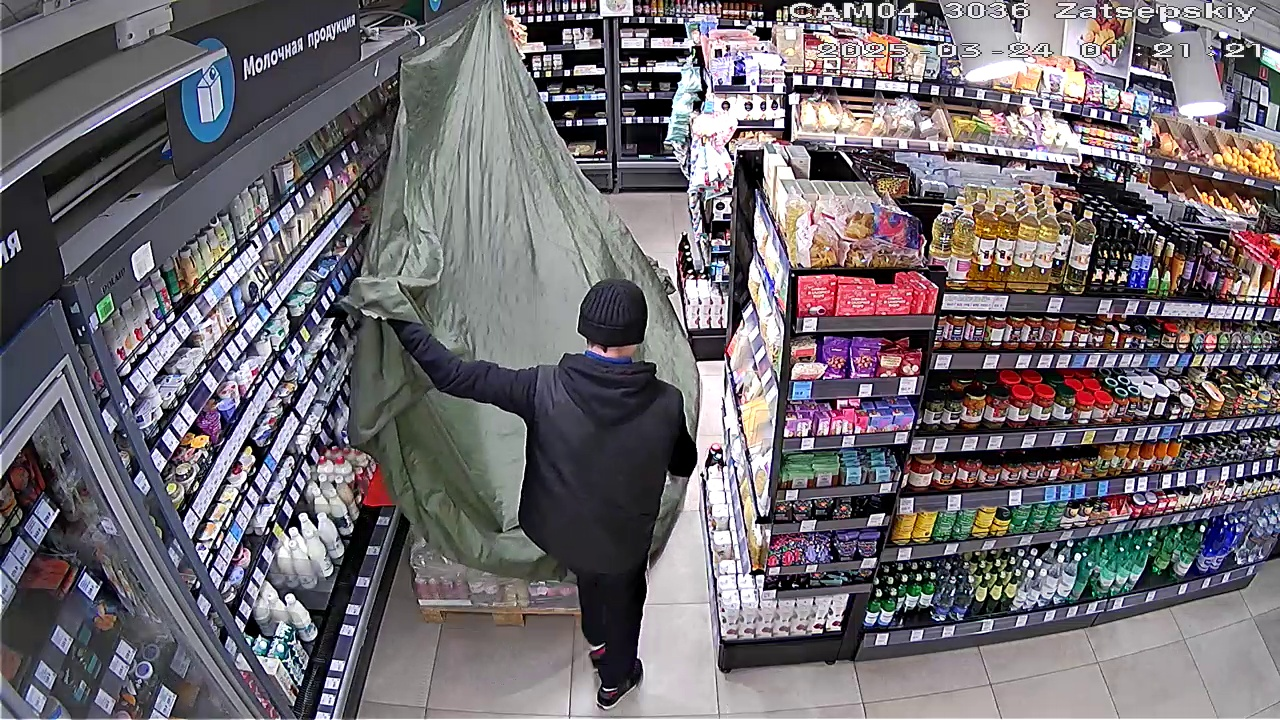Human: (383, 266, 664, 679)
dome: (373, 19, 698, 565)
